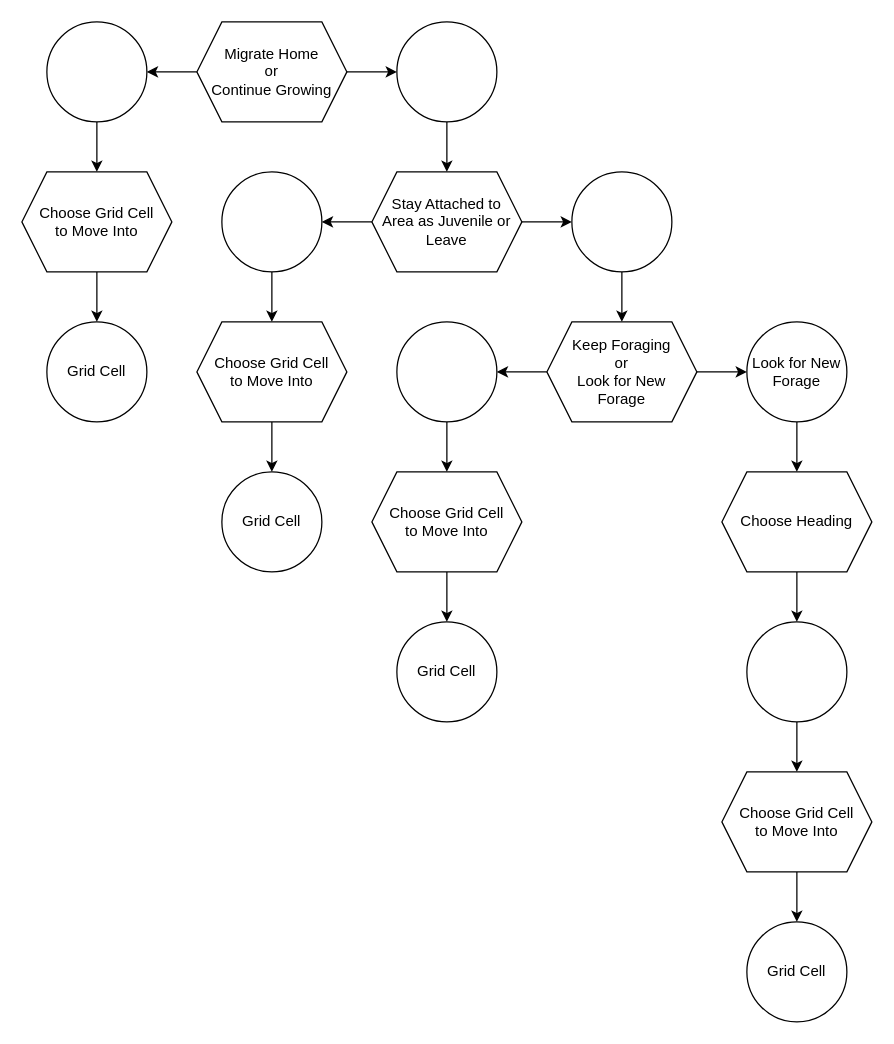
This 894x1044 diagram has some shape labels left out. The centre of each missing label's shape, as x and y in pixels:
Grow: the point at 446,71
Heading: the point at 796,671
Keep Foraging: the point at 446,371
Leave: the point at 621,221
Migrate: the point at 96,71
Stay: the point at 271,221
